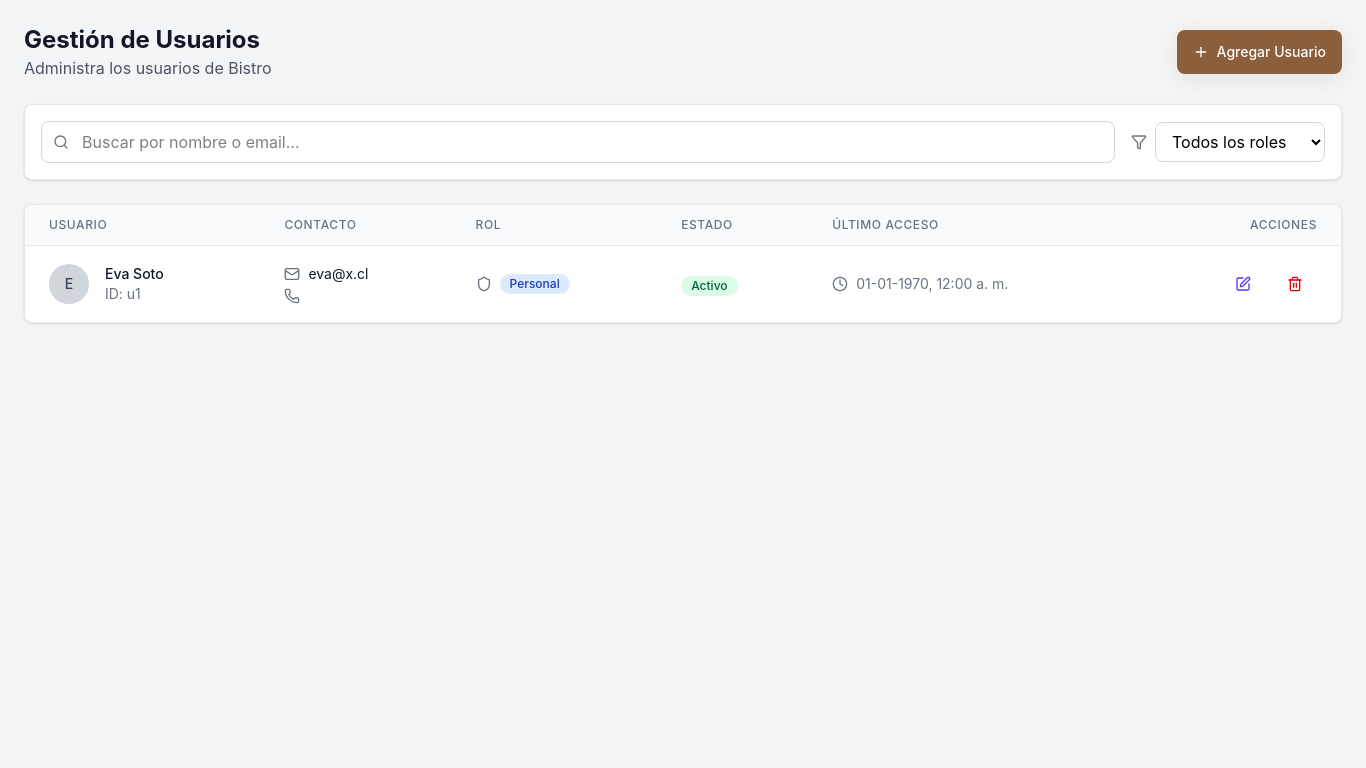
Test: settings and staff form labels › names the user form fields from their labels
Check: the text "Eva Soto" is shown, box [105, 264, 164, 284]
Click the button "Agregar Usuario" at (1259, 52), box [1177, 30, 1342, 74]
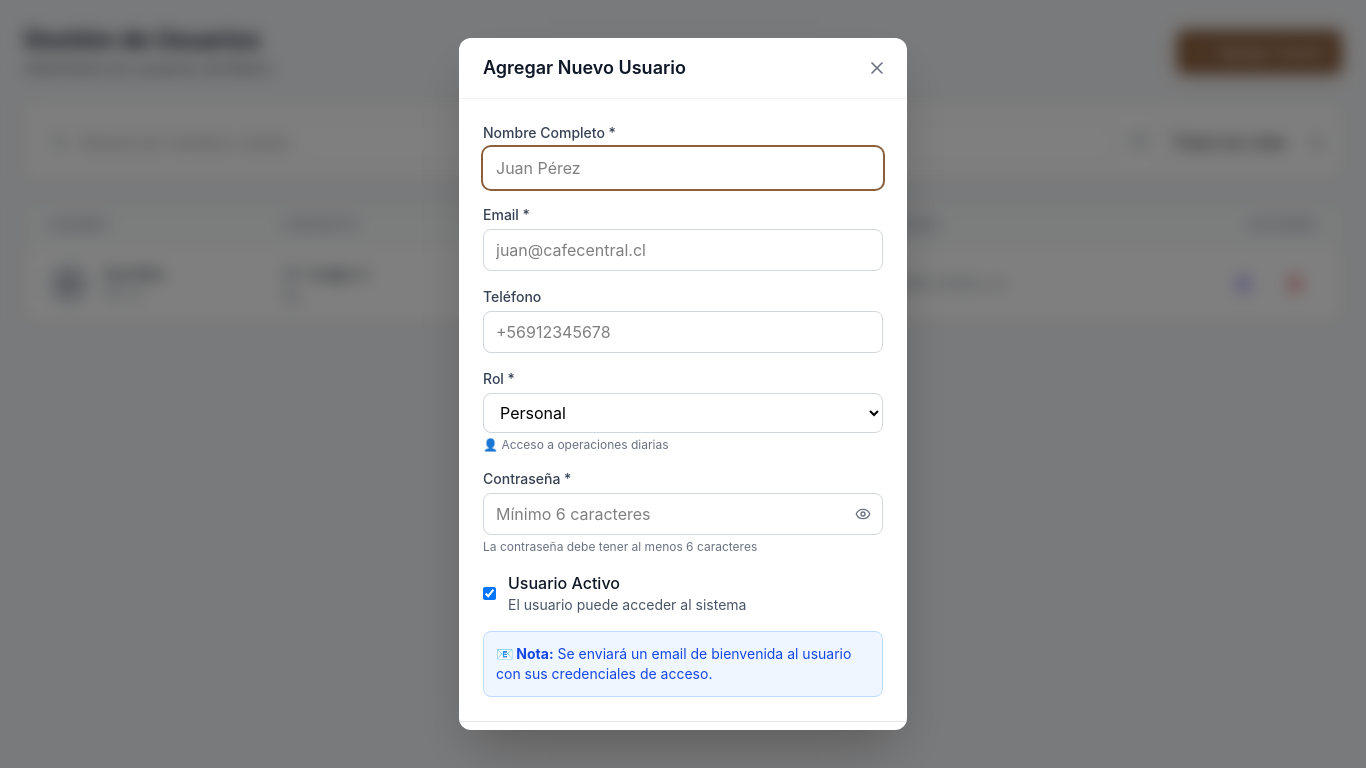
Check: the dropdown labelled "Rol *" shows "Personal", box [483, 393, 883, 433]
